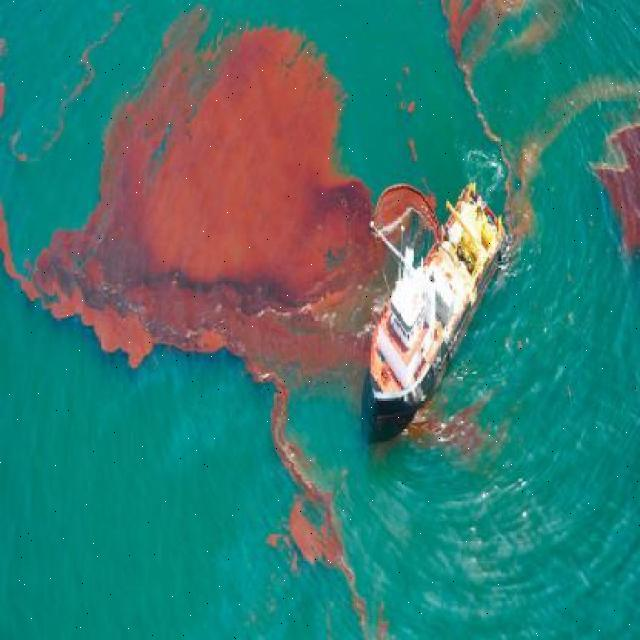truecolor: (18, 11, 420, 423), (272, 383, 368, 636), (595, 123, 639, 252)
